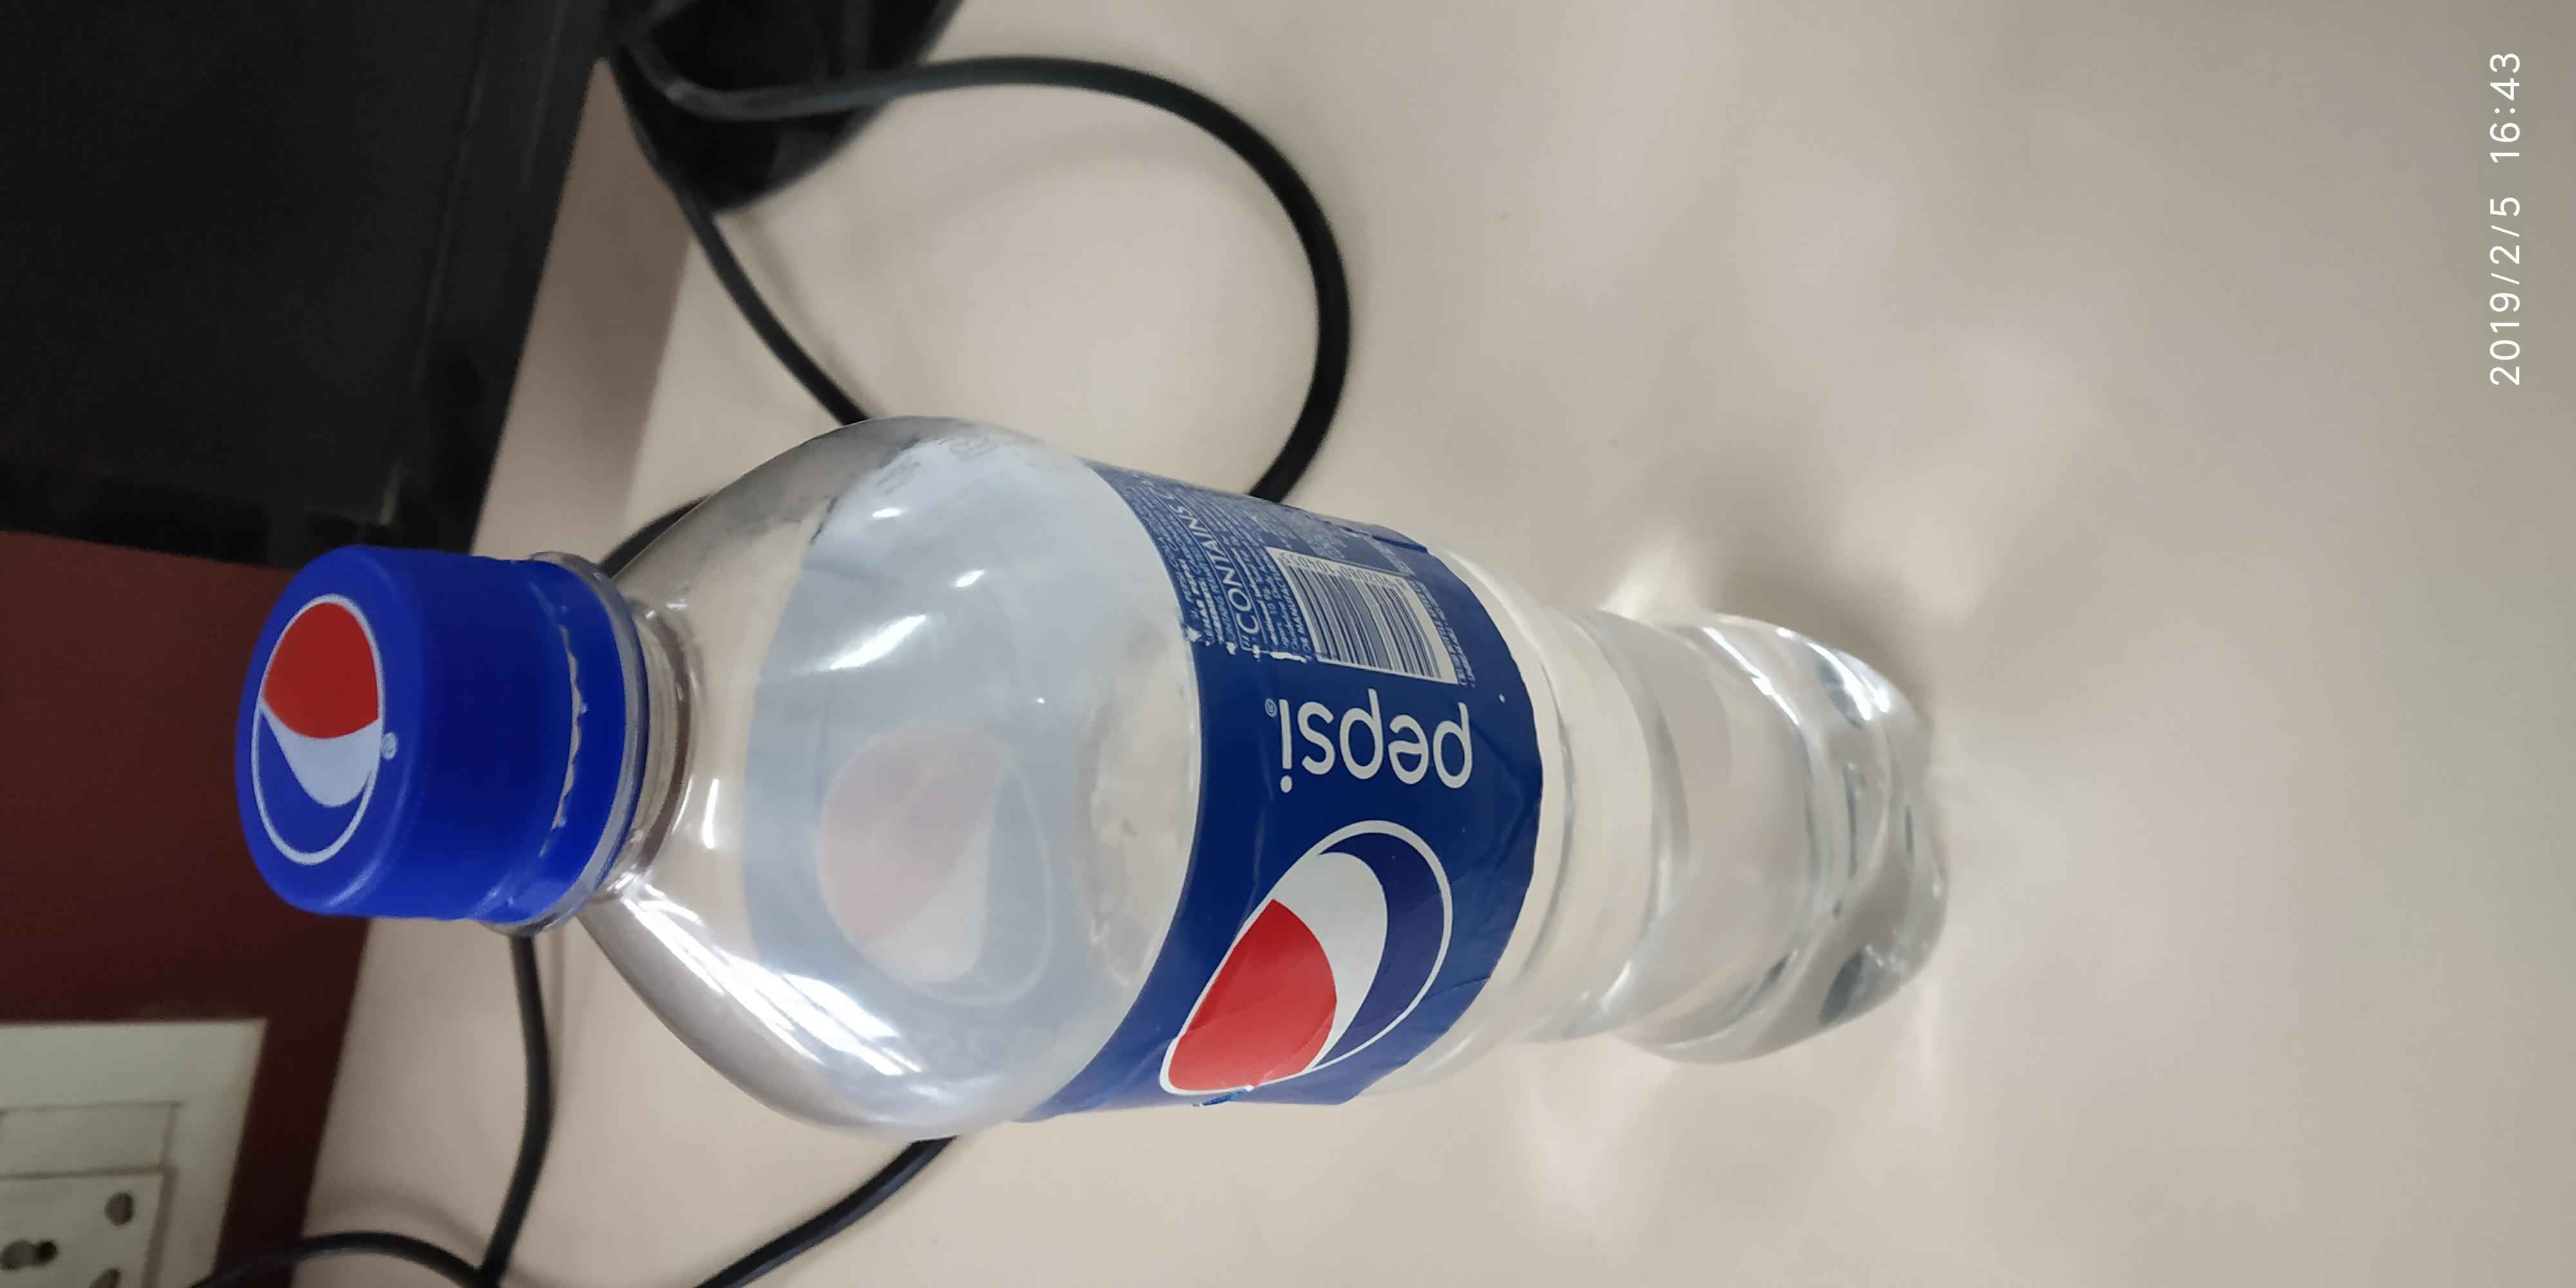pepsi: (1161, 688, 1521, 1114), (225, 578, 430, 892)
